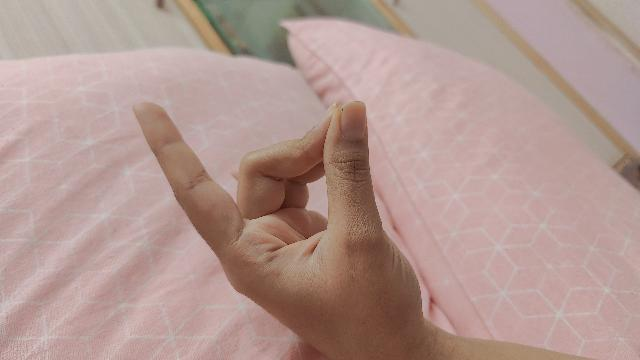sinhamukh: (131, 103, 617, 360)
